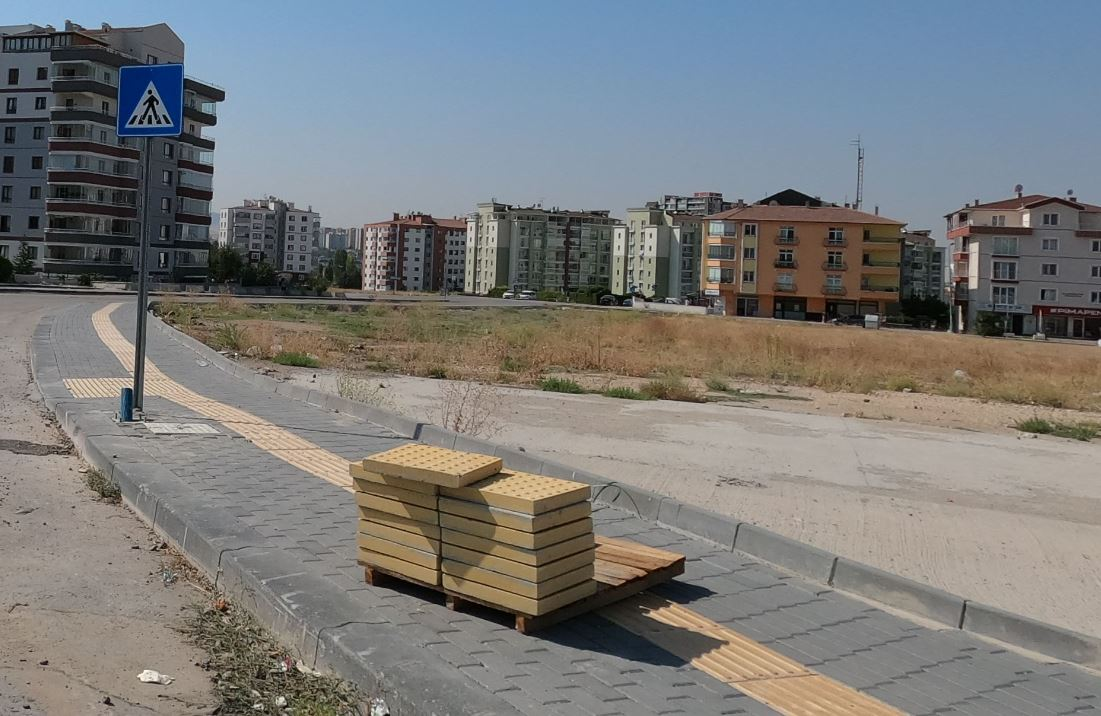Yaya Gecidi: (118, 69, 185, 132)
